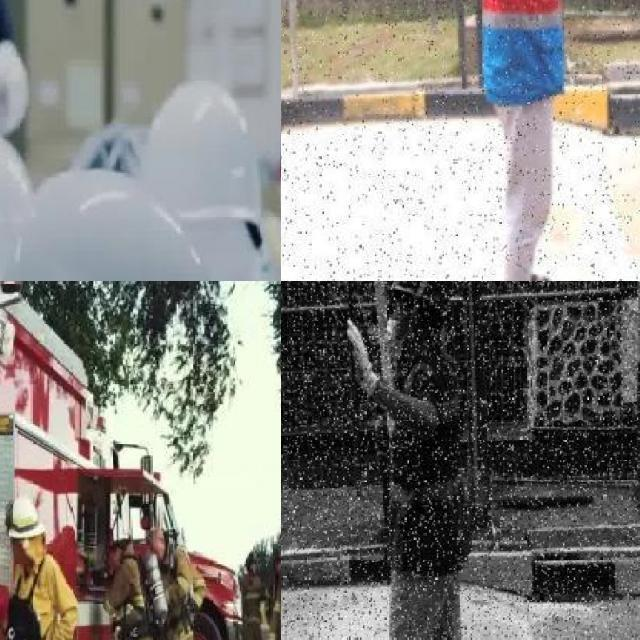apron: (342, 314, 378, 399)
